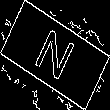N_SW: (30, 23, 80, 87)
